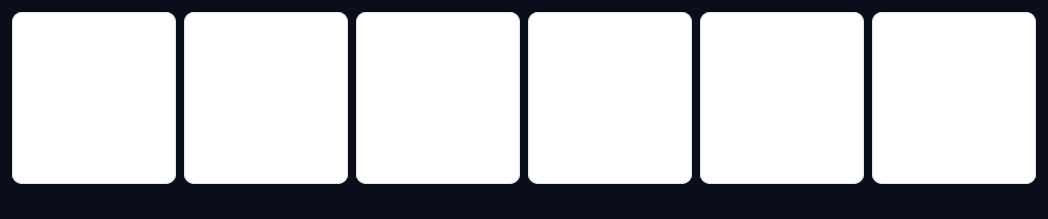
it: e-mail code step › moves between the six boxes, accepts a pasted code and goes back with backspace
The image size is (1048, 219).
Click the field named "Digit 1" at (94,98), box [12,12,176,184]
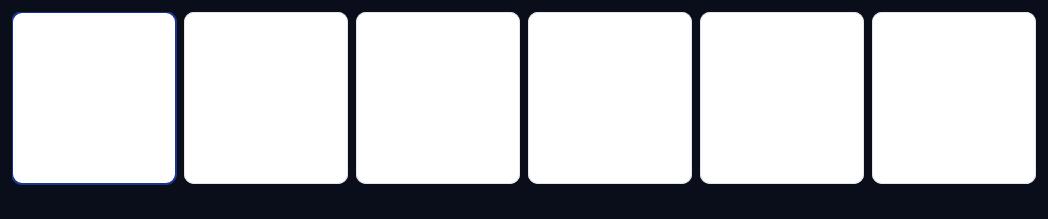
Type keys "12"
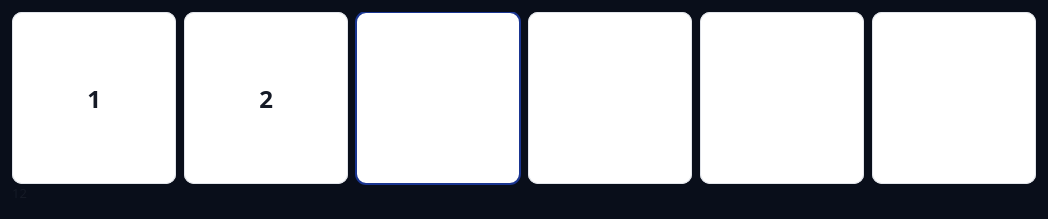
Expected: the text with test id "v" reads "12", [12,184,27,202]
Press Backspace
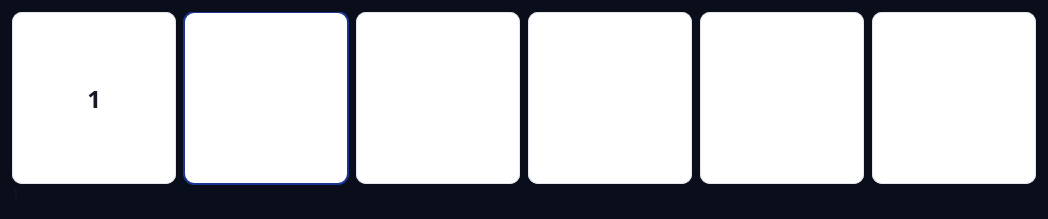
Expected: the text with test id "v" reads "1", [12,184,19,202]
Click the field named "Digit 1" at (94,98), box [12,12,176,184]
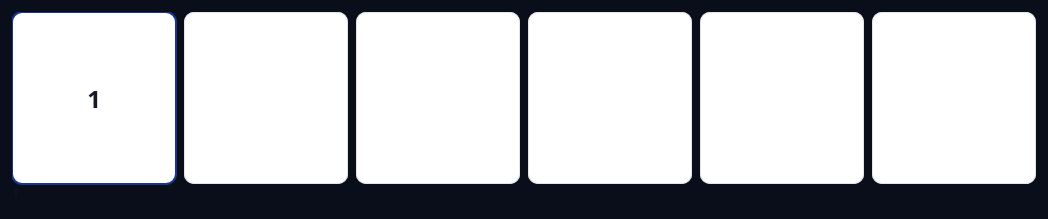
Type keys "482 913"
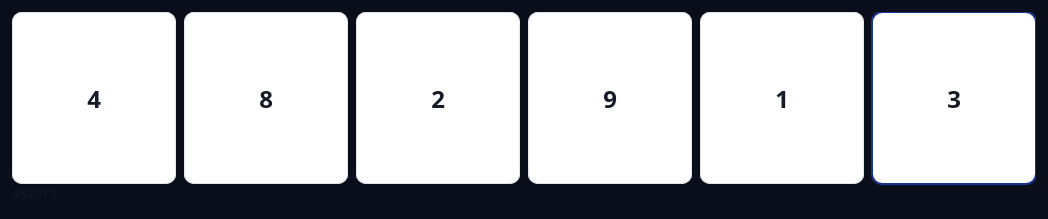
Expected: the text with test id "v" reads "482913", [12,184,57,202]
Expected: the field named "Digit 4" holds "9", [528,12,692,184]
